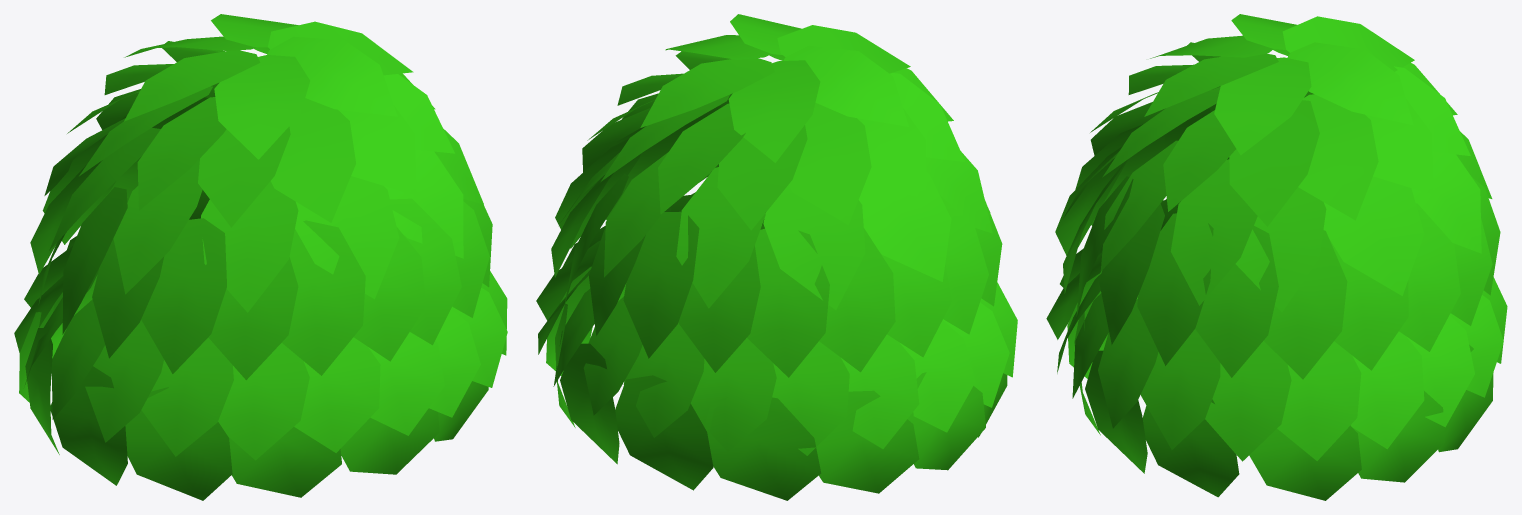
Rendered from Bush.FBX.
The picture shows the model from 3 angles, left to right: view 1: azimuth 30°, elevation 25°; view 2: azimuth 150°, elevation 25°; view 3: azimuth 270°, elevation 25°; orthographic projection. The views are drawn at different scales.
Parts seen in each view (by area): view 1: Bush; view 2: Bush; view 3: Bush.
Boxes of the visible parts, x1,y1,x2,y2 form: Bush: (14, 14, 507, 500); Bush: (536, 14, 1017, 500); Bush: (1046, 14, 1507, 500).
Bounding box in the file's own units: 162 × 151 × 134.
